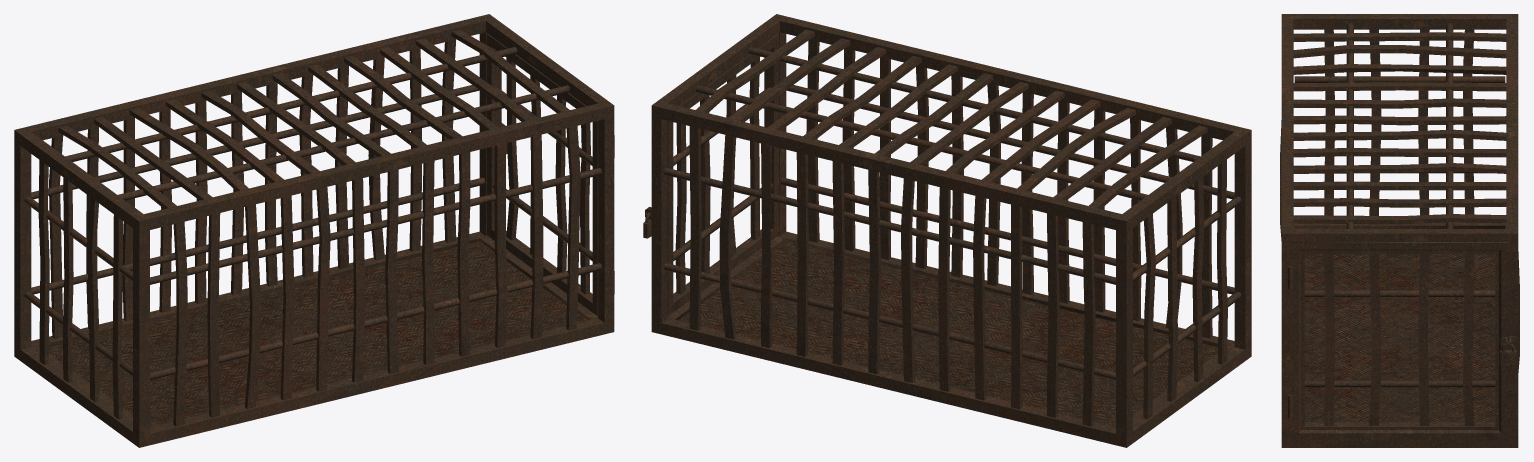
File: cage_mx_1.obj
3 views of the same model, side by side, from view 1: azimuth 30°, elevation 25°; view 2: azimuth 150°, elevation 25°; view 3: azimuth 270°, elevation 25° (orthographic). The views are drawn at different scales.
Parts seen in each view (by area): view 1: cage_mx_1, cage_mx_1_door; view 2: cage_mx_1, cage_mx_1_door; view 3: cage_mx_1, cage_mx_1_door, padlock_mx_1.
Boxes of the visible parts, x1,y1,x2,y2 form: cage_mx_1: (14,14,614,447); cage_mx_1_door: (486,33,614,316); cage_mx_1: (645,14,1251,447); cage_mx_1_door: (647,33,779,315); cage_mx_1: (1280,14,1519,447); cage_mx_1_door: (1288,242,1508,439); padlock_mx_1: (1500,342,1516,365).
Size of the model in its own units: 4.49 by 2.01 by 2.03.
